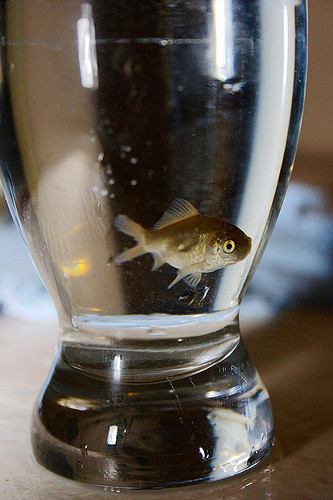glass of water: (9, 1, 302, 481)
